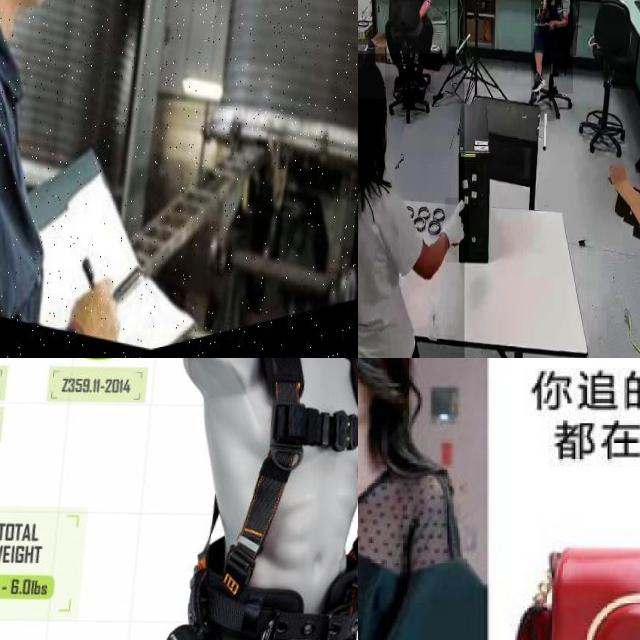Harness: (169, 358, 358, 640)
hand_glove: (445, 198, 469, 262)
hand_noglove: (535, 9, 546, 23), (546, 19, 556, 31)
head_nohelmet: (358, 49, 385, 99)
person: (358, 358, 478, 640), (358, 53, 465, 358), (530, 0, 573, 94), (389, 0, 436, 83)
shoes: (529, 67, 548, 96)
